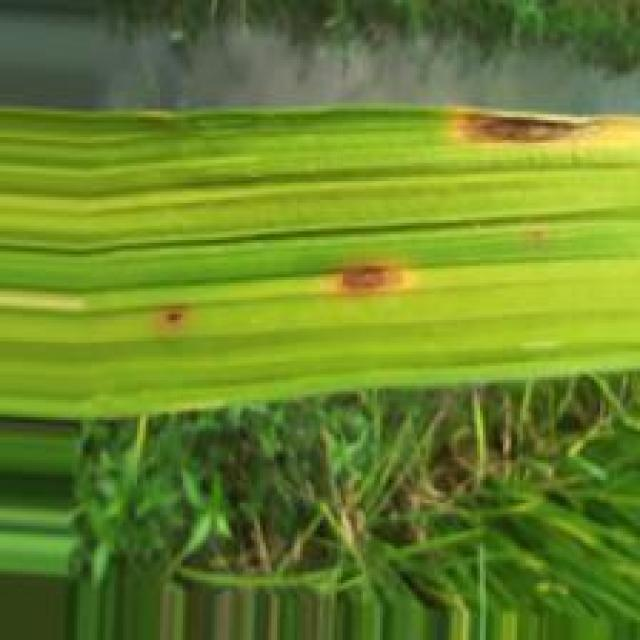Narrow_Brown_Leaf_Spot: (435, 100, 640, 151), (317, 255, 403, 300)
